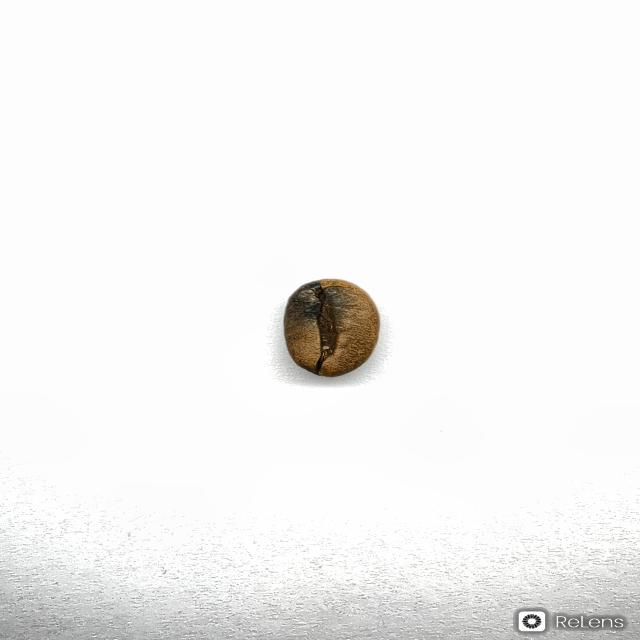Scorched: (281, 277, 382, 379)
